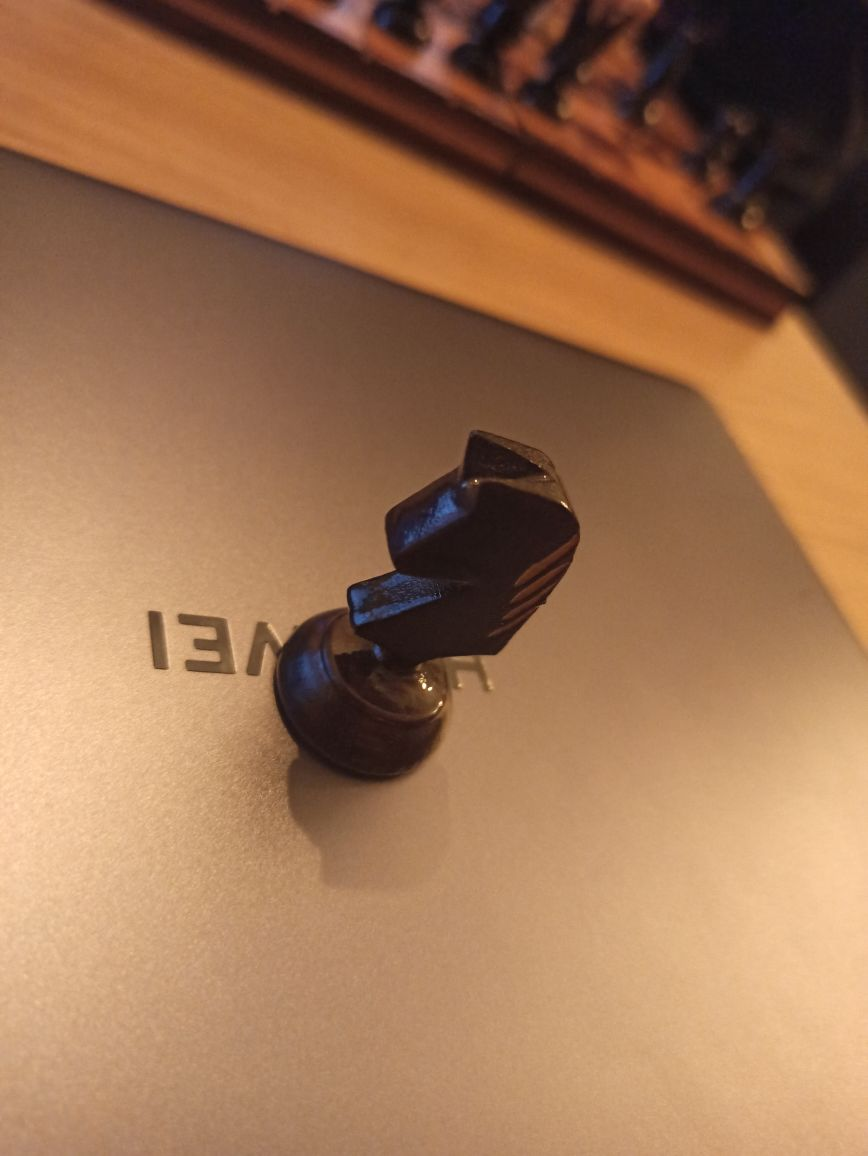bknight: (270, 422, 584, 789)
